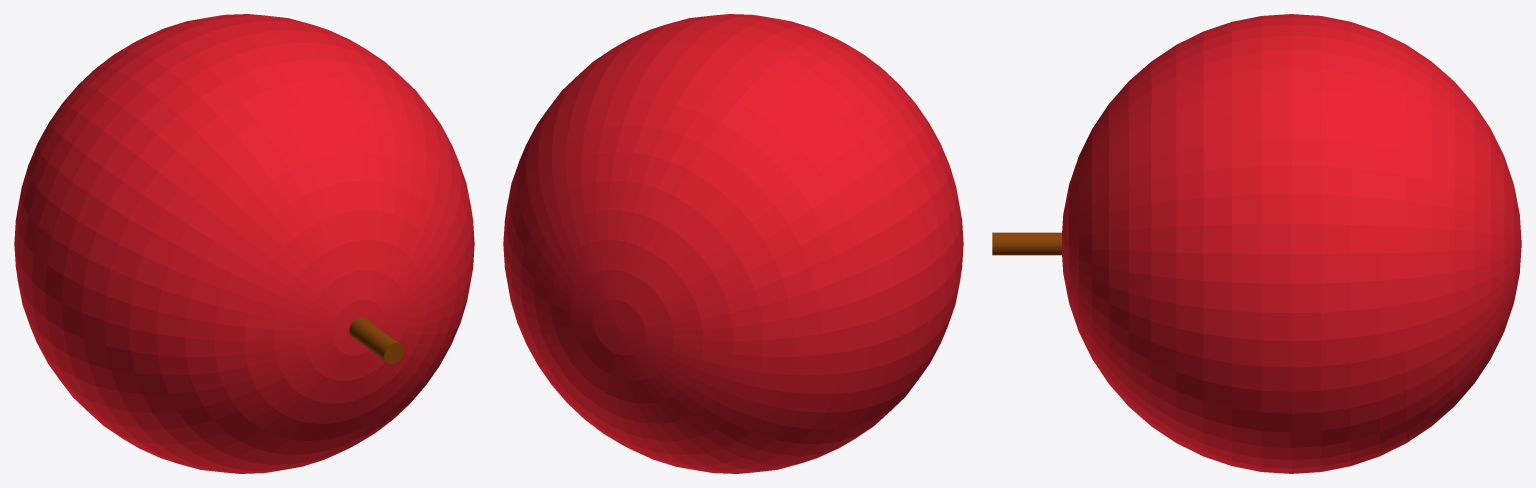
The model's file is apple.obj.
The picture shows the model from 3 angles, left to right: view 1: azimuth 30°, elevation 25°; view 2: azimuth 150°, elevation 25°; view 3: azimuth 270°, elevation 25°; orthographic projection.
Parts seen in each view (by area): view 1: obj_1, obj_0; view 2: obj_1; view 3: obj_1, obj_0.
Boxes of the visible parts, box(x1,y1,x2,y2) form: obj_1: box(14, 14, 474, 473); obj_0: box(349, 317, 403, 364); obj_1: box(503, 14, 963, 473); obj_1: box(1062, 14, 1521, 473); obj_0: box(992, 232, 1061, 255).
Bounding box in the file's own units: 20 × 20 × 23.
